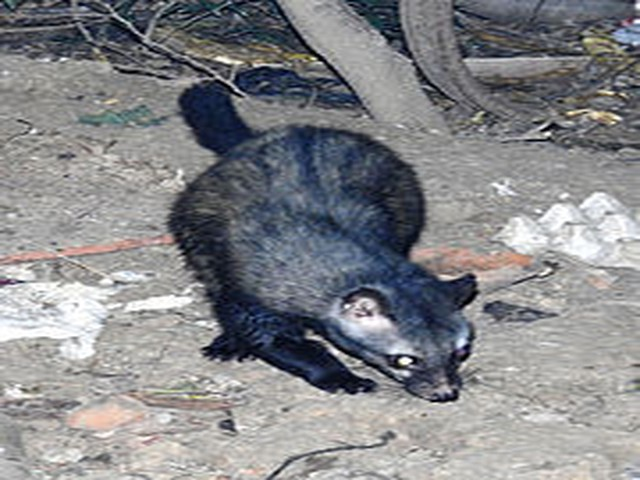civet: (166, 78, 483, 407)
